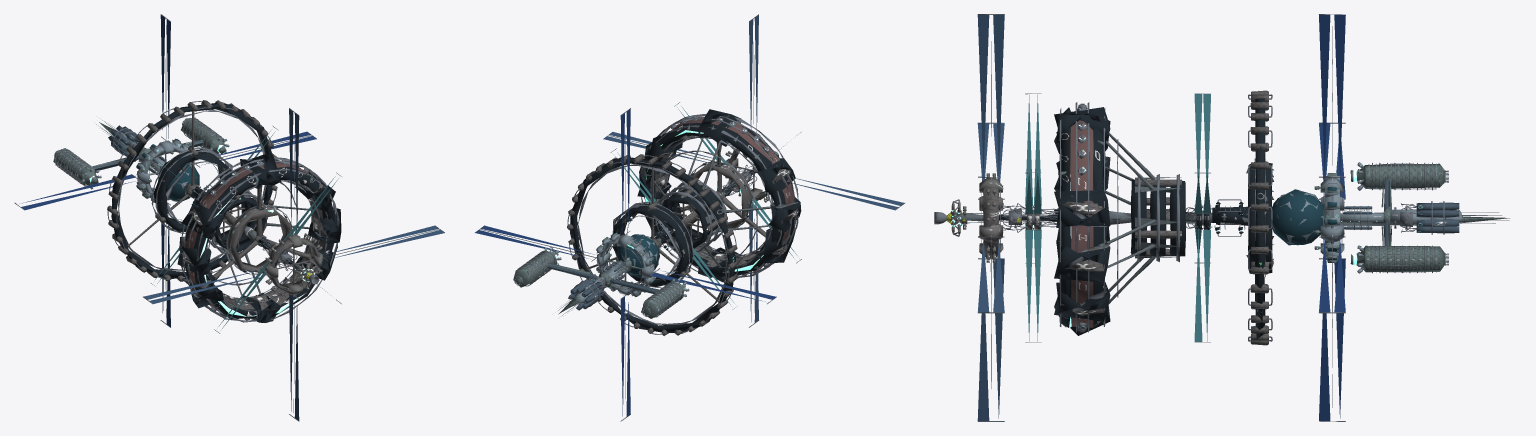
The model's file is sci-fi-space-station.glb.
3 views of the same model, side by side, from view 1: azimuth 30°, elevation 25°; view 2: azimuth 150°, elevation 25°; view 3: azimuth 270°, elevation 25° (orthographic). The views are drawn at different scales.
Parts seen in each view (by area): view 1: Cylinder_low static; view 2: Cylinder_low static; view 3: Cylinder_low static.
Part boxes in pixels (x1=…): Cylinder_low static: x1=14, y1=14, x2=444, y2=421; Cylinder_low static: x1=475, y1=14, x2=904, y2=421; Cylinder_low static: x1=934, y1=14, x2=1509, y2=421.
Size of the model in its own units: 35.48 by 35.48 by 46.28.
Materials: 5 (5 with a texture image).
